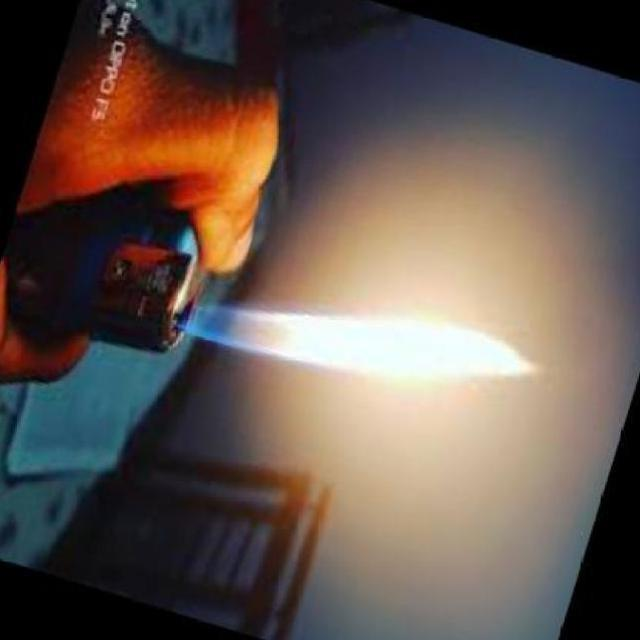smoke: (167, 293, 550, 394)
